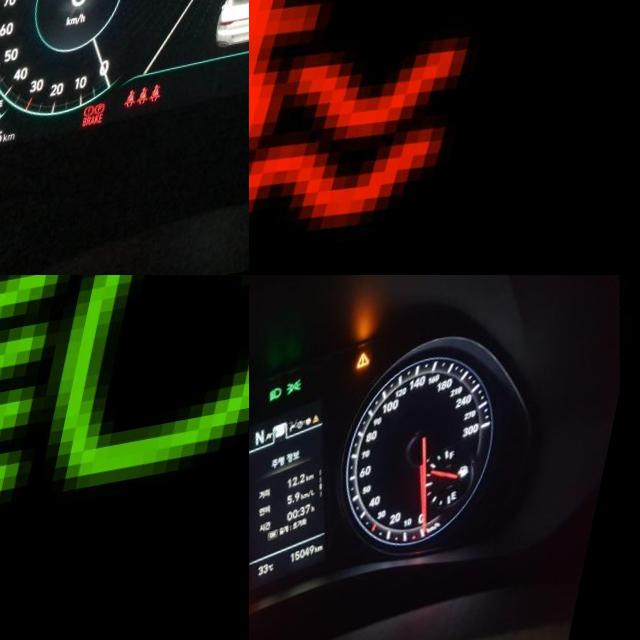Central Warning lamp: (361, 363, 380, 383)
Engine cooling system: (249, 0, 551, 275)
Low beam: (0, 275, 249, 561), (275, 395, 292, 412)
SideLamp: (293, 388, 312, 406)
